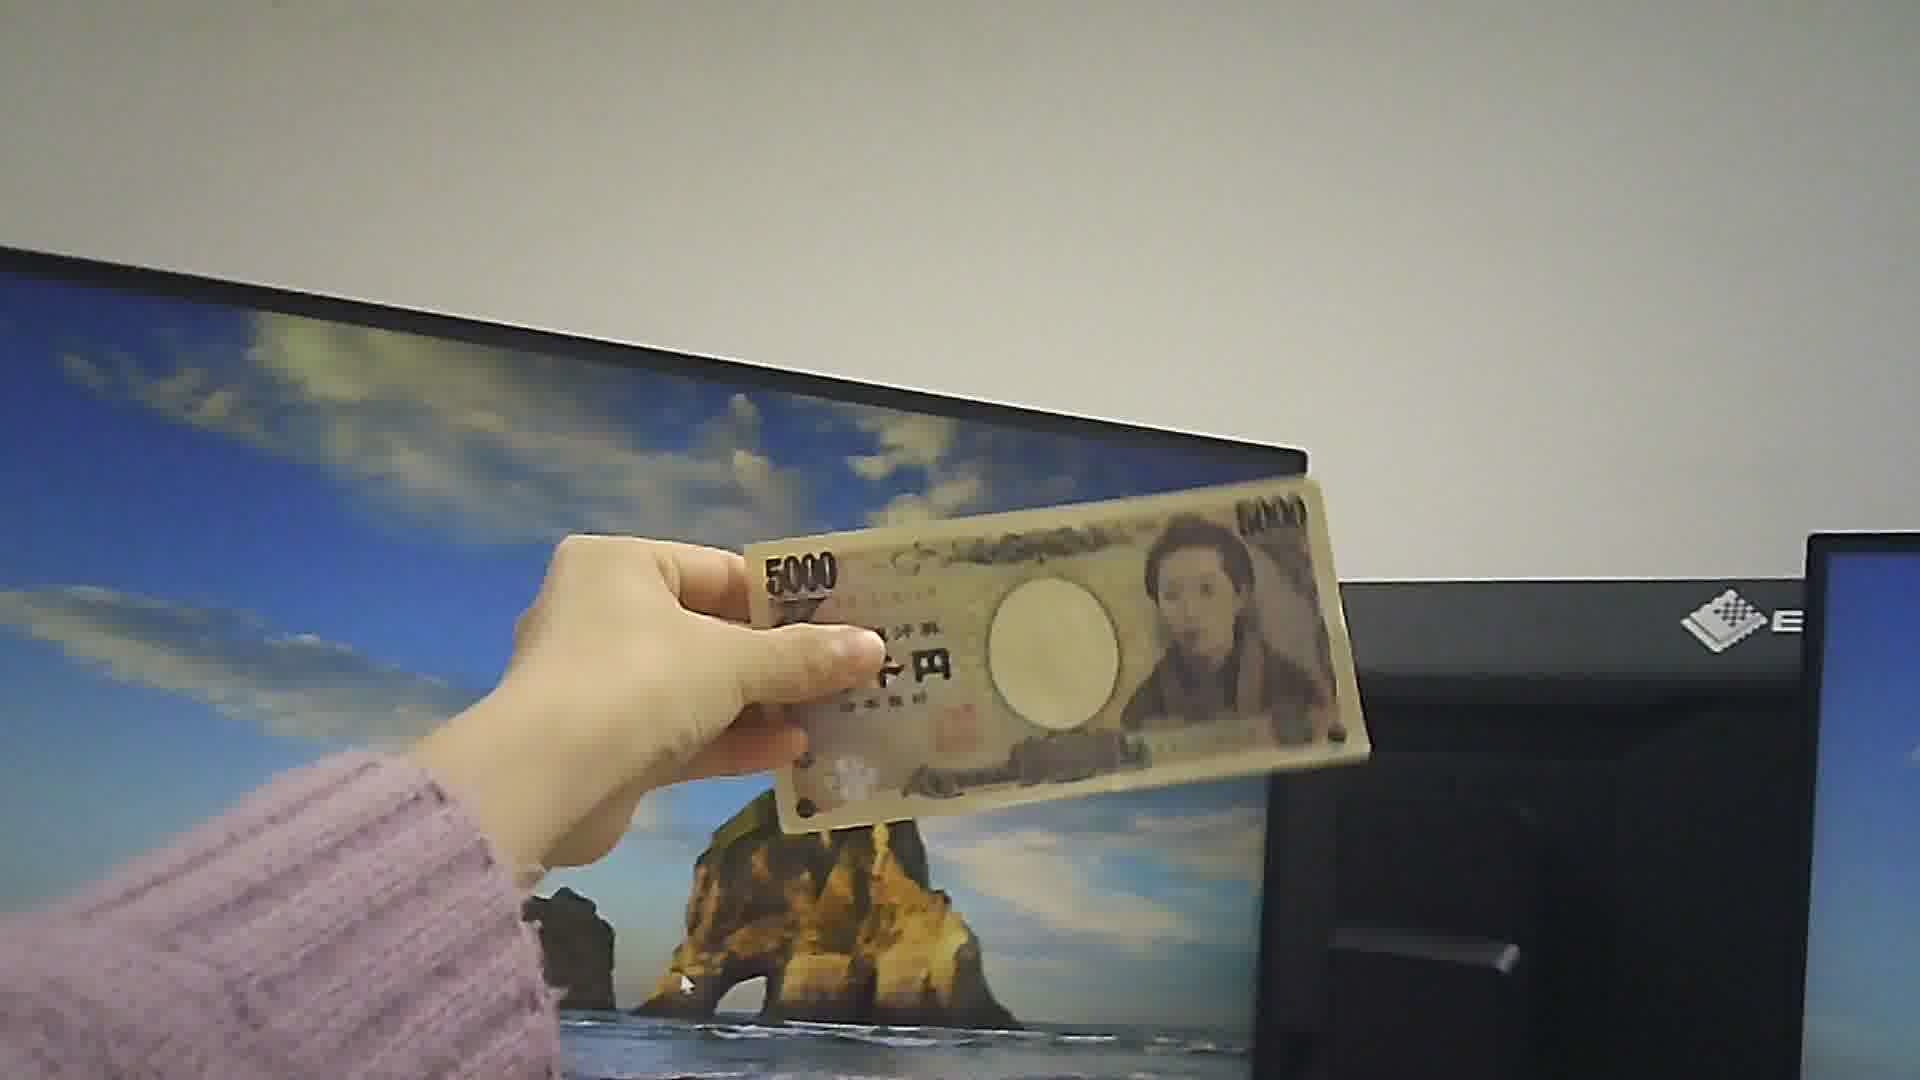5,000 Yen: (717, 455, 1391, 828)
